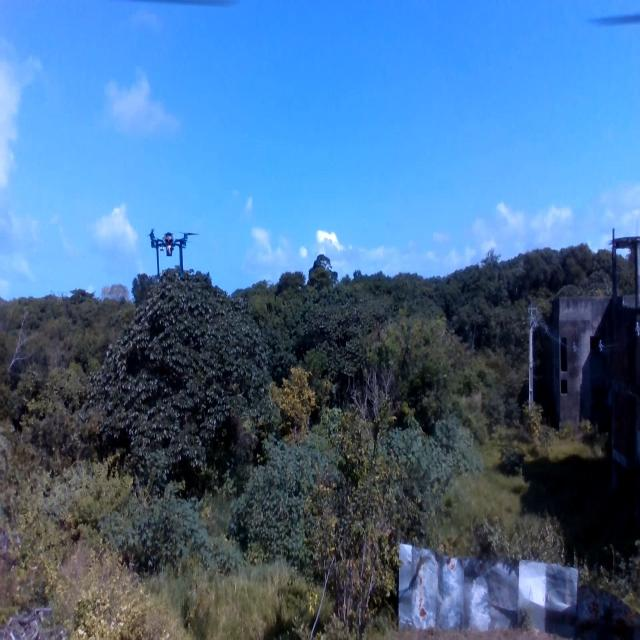-uav-: (136, 207, 202, 295)
